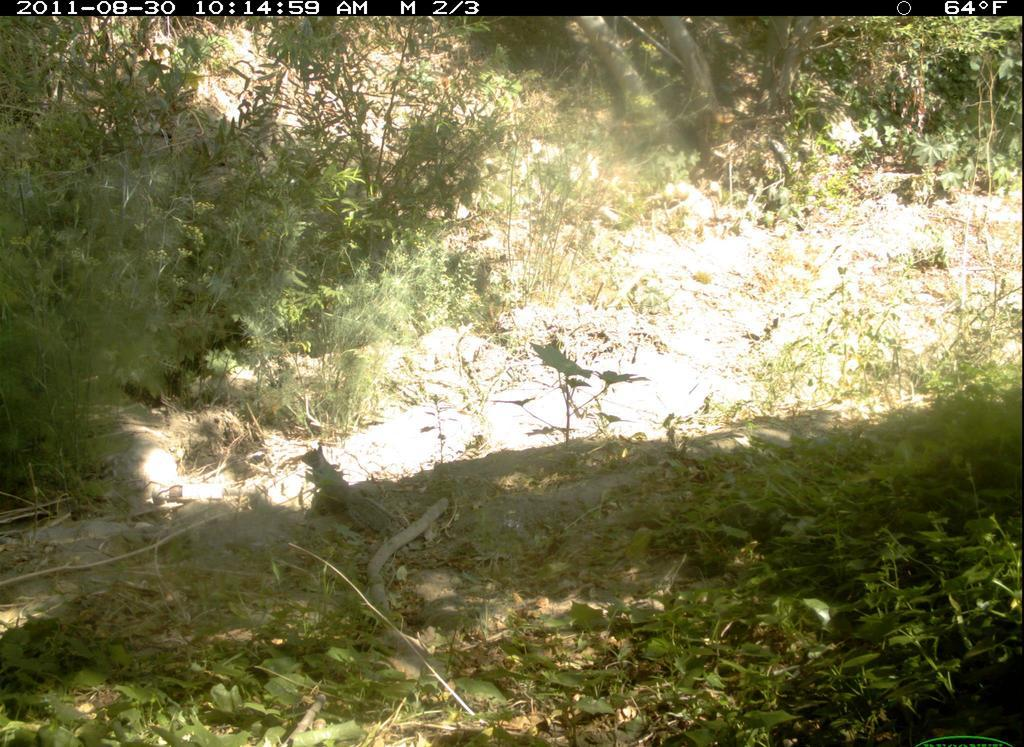squirrel: (299, 440, 388, 532)
